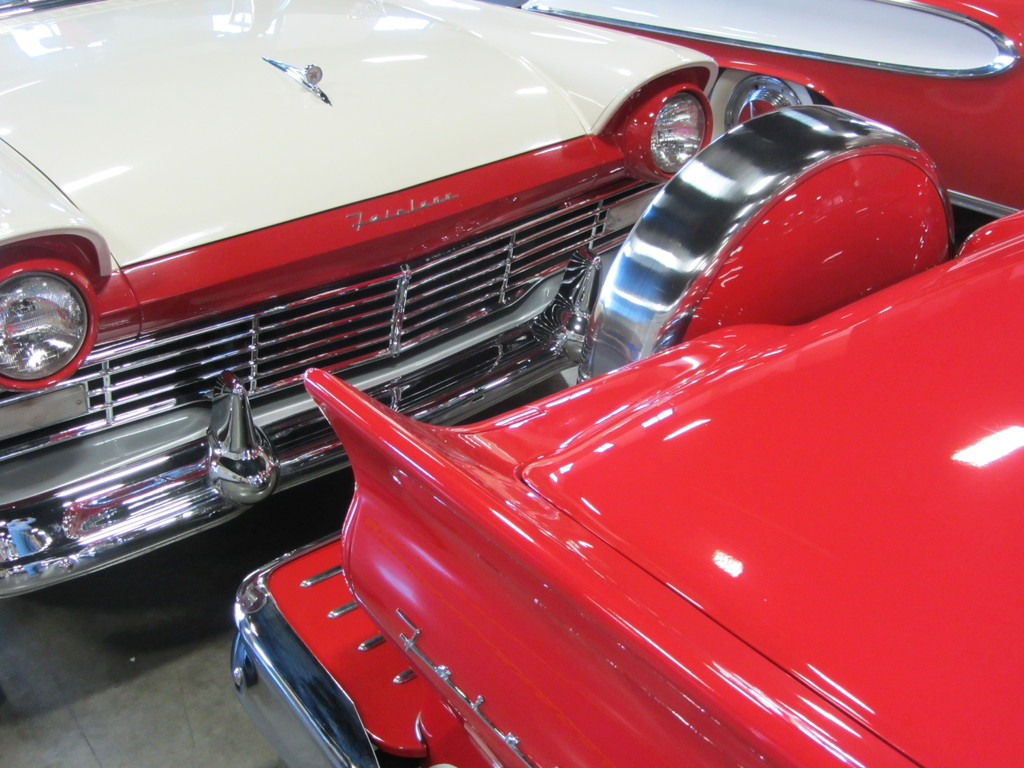Car: (231, 104, 1023, 767), (0, 0, 715, 600), (493, 0, 1023, 257)
